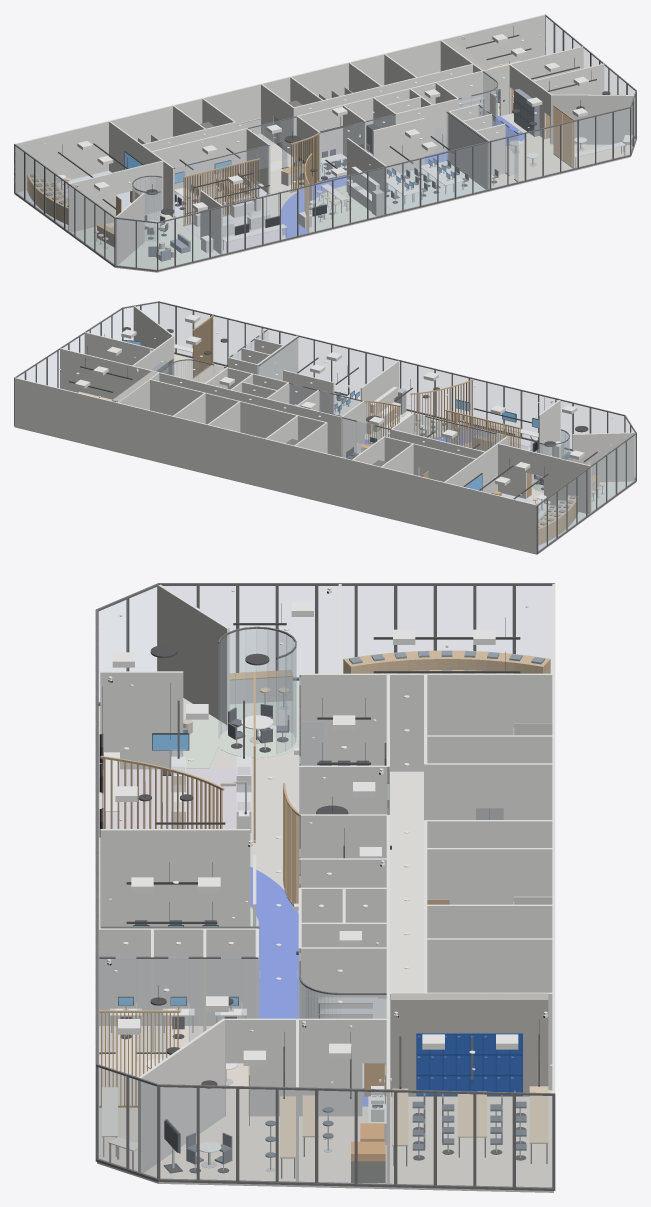
File: xcamp-fl20.glb
3 views of the same model, one above another, from view 1: azimuth 30°, elevation 25°; view 2: azimuth 150°, elevation 25°; view 3: azimuth 270°, elevation 25° (orthographic). The views are drawn at different scales.
Parts seen in each view (by area): view 1: Structure__wall, Windows__glass, Structure__glass, Windows__frame, Structure__wood, MVP__carpet_maker, Structure__floor, Workspace__carpet_work, Circulation__corridor_blue, Lounge__carpet_collab, Kitchen__carpet_collab, Display__white (+15 smaller); view 2: Structure__wall, Windows__glass, Structure__glass, Windows__frame, Structure__wood, Structure__floor, Training__tier, MVP__carpet_maker, Structure__frame, Kitchen__carpet_collab, Kitchen__white, StandingBar__carpet_collab (+2 smaller); view 3: Structure__wall, Windows__glass, Structure__glass, Windows__frame, Makerspace_01__carpet_maker, Structure__wood, Makerspace_01__midgrey, Structure__floor, Circulation__corridor, LCK_02__doors, Circulation__corridor_blue, Makerspace_02__carpet_maker (+21 smaller).
Boxes of the visible parts, left/top/right/bottom form: Structure__wall: left=14, top=14, right=633, bottom=265; Windows__glass: left=15, top=17, right=635, bottom=269; Structure__glass: left=132, top=72, right=518, bottom=240; Windows__frame: left=14, top=14, right=636, bottom=271; Structure__wood: left=116, top=88, right=574, bottom=232; MVP__carpet_maker: left=506, top=133, right=632, bottom=181; Structure__floor: left=14, top=114, right=630, bottom=272; Workspace__carpet_work: left=386, top=161, right=485, bottom=211; Circulation__corridor_blue: left=281, top=116, right=524, bottom=238; Lounge__carpet_collab: left=118, top=235, right=220, bottom=269; Kitchen__carpet_collab: left=309, top=185, right=376, bottom=232; Display__white: left=193, top=200, right=287, bottom=242; Structure__wall: left=14, top=306, right=634, bottom=553; Windows__glass: left=17, top=303, right=635, bottom=551; Structure__glass: left=161, top=330, right=569, bottom=491; Windows__frame: left=14, top=301, right=636, bottom=553; Structure__wood: left=192, top=315, right=531, bottom=497; Structure__floor: left=15, top=354, right=636, bottom=554; Training__tier: left=538, top=495, right=578, bottom=545; MVP__carpet_maker: left=174, top=354, right=225, bottom=382; Structure__frame: left=159, top=328, right=569, bottom=444; Kitchen__carpet_collab: left=364, top=411, right=468, bottom=440; Kitchen__white: left=367, top=386, right=465, bottom=434; StandingBar__carpet_collab: left=591, top=481, right=633, bottom=511; Structure__wall: left=99, top=584, right=555, bottom=1183; Windows__glass: left=97, top=586, right=551, bottom=1187; Structure__glass: left=100, top=629, right=388, bottom=1088; Windows__frame: left=95, top=583, right=555, bottom=1190; Makerspace_01__carpet_maker: left=390, top=1090, right=552, bottom=1187; Structure__wood: left=99, top=672, right=449, bottom=1125; Makerspace_01__midgrey: left=391, top=993, right=548, bottom=1096; Structure__floor: left=97, top=706, right=553, bottom=1192; Circulation__corridor: left=390, top=771, right=423, bottom=992; LCK_02__doors: left=416, top=1034, right=522, bottom=1095; Circulation__corridor_blue: left=250, top=867, right=368, bottom=1106; Makerspace_02__carpet_maker: left=144, top=1115, right=295, bottom=1181.
Bounding box in the file's own units: 45.3 × 4.1 × 17.22.
Materials: 38 (2 with a texture image).
